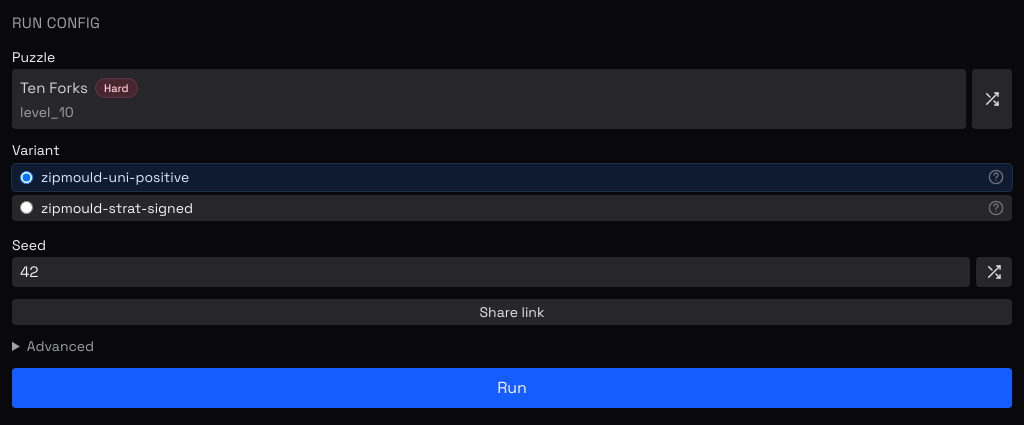
Test: ConfigPanel › selects a random puzzle from the icon button and clears the current trace
Expected: the 1st icon is shown, x1=984 y1=91 x2=1000 y2=107
Focus the button with test id "random-puzzle" at (992, 99), box x1=972 y1=69 x2=1012 y2=129
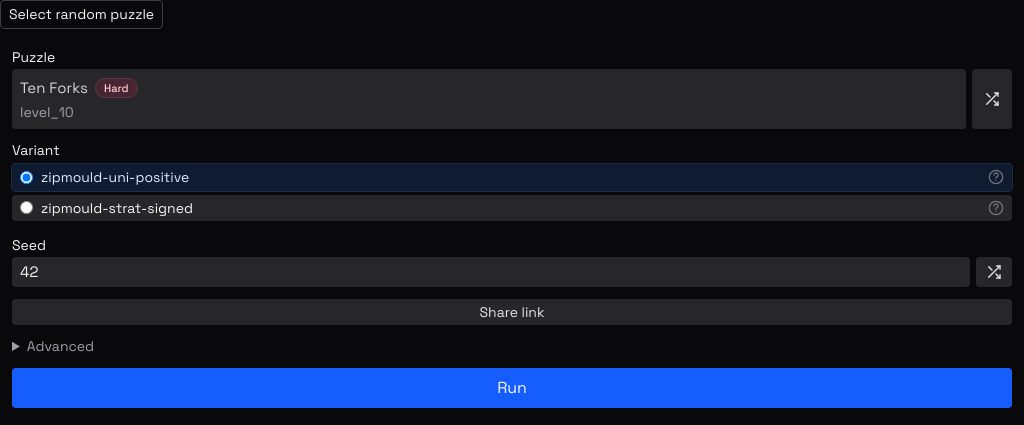
Result: the text "Select random puzzle" is shown at x1=0 y1=0 x2=163 y2=29
Click the button with test id "random-puzzle" at (992, 99), box x1=972 y1=69 x2=1012 y2=129
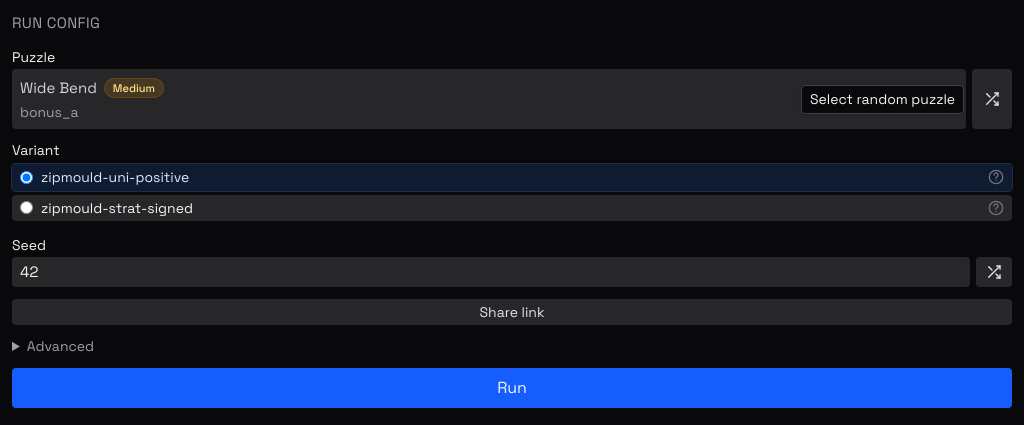
Result: the text "bonus_a" is shown at x1=20 y1=103 x2=79 y2=121
